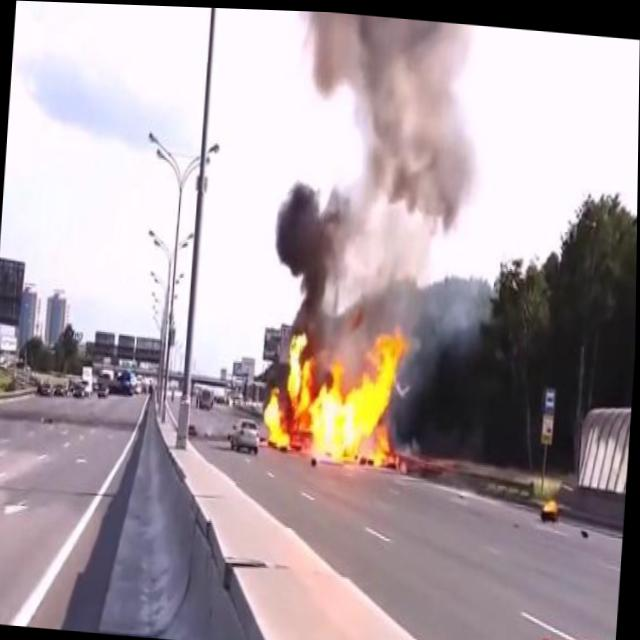fire: (262, 309, 416, 476)
